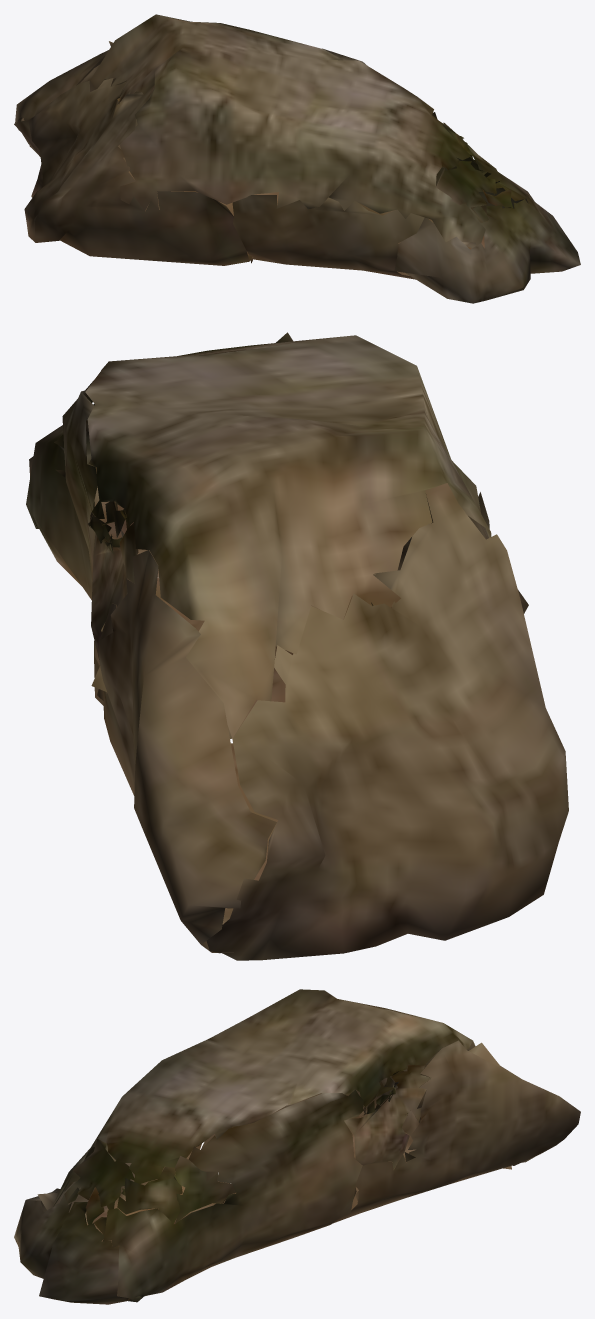
File: rock_moss_c.glb
The picture shows the model from 3 angles, top to bottom: view 1: azimuth 30°, elevation 25°; view 2: azimuth 150°, elevation 25°; view 3: azimuth 270°, elevation 25°; orthographic projection. The views are drawn at different scales.
Visible parts, largest first — view 1: rock_moss_set_01_rock02; view 2: rock_moss_set_01_rock02; view 3: rock_moss_set_01_rock02.
Boxes of the visible parts, x1,y1,x2,y2 form: rock_moss_set_01_rock02: (14, 14, 580, 303); rock_moss_set_01_rock02: (26, 332, 568, 960); rock_moss_set_01_rock02: (14, 989, 580, 1304).
Bounding box in the file's own units: 2.65 × 1.23 × 3.27.
Materials: 1 (1 with a texture image).
